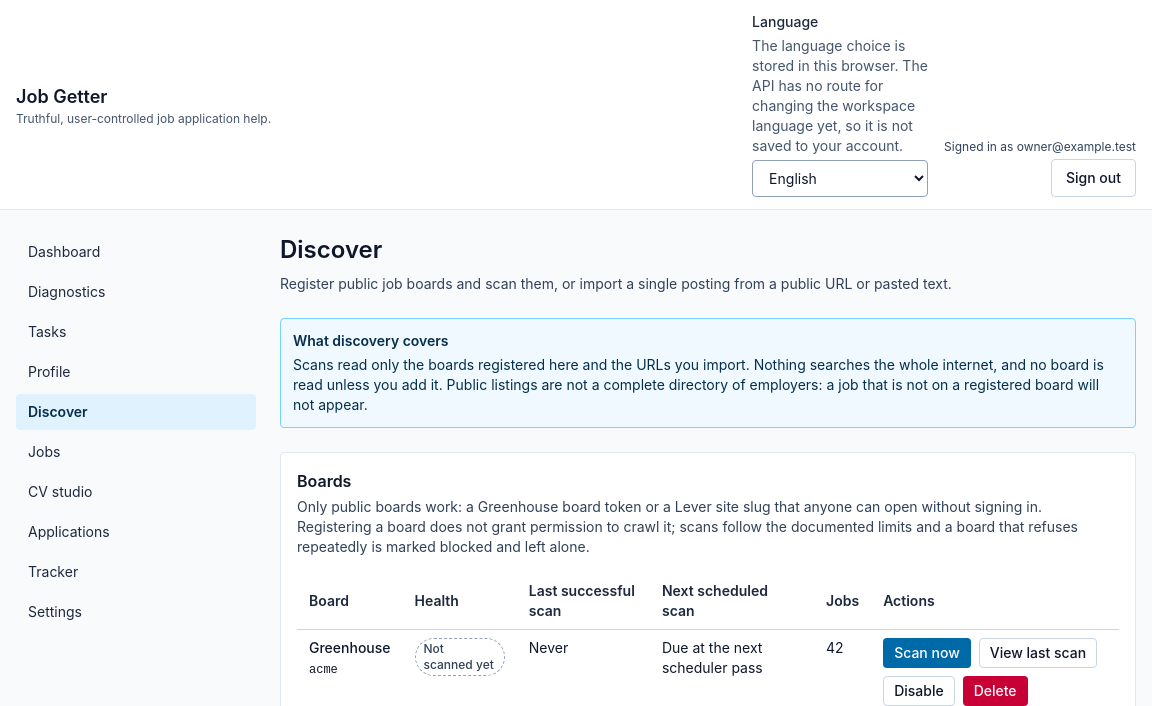
Test: discover: scan status › says plainly that a partial scan closed nothing
This screenshot has width=1152, height=706.
Expected: the heading "Discover" is shown, x1=280 y1=235 x2=382 y2=264
Click the button "View last scan" at (1038, 653), box x1=979 y1=638 x2=1097 y2=668
(page scrolled)
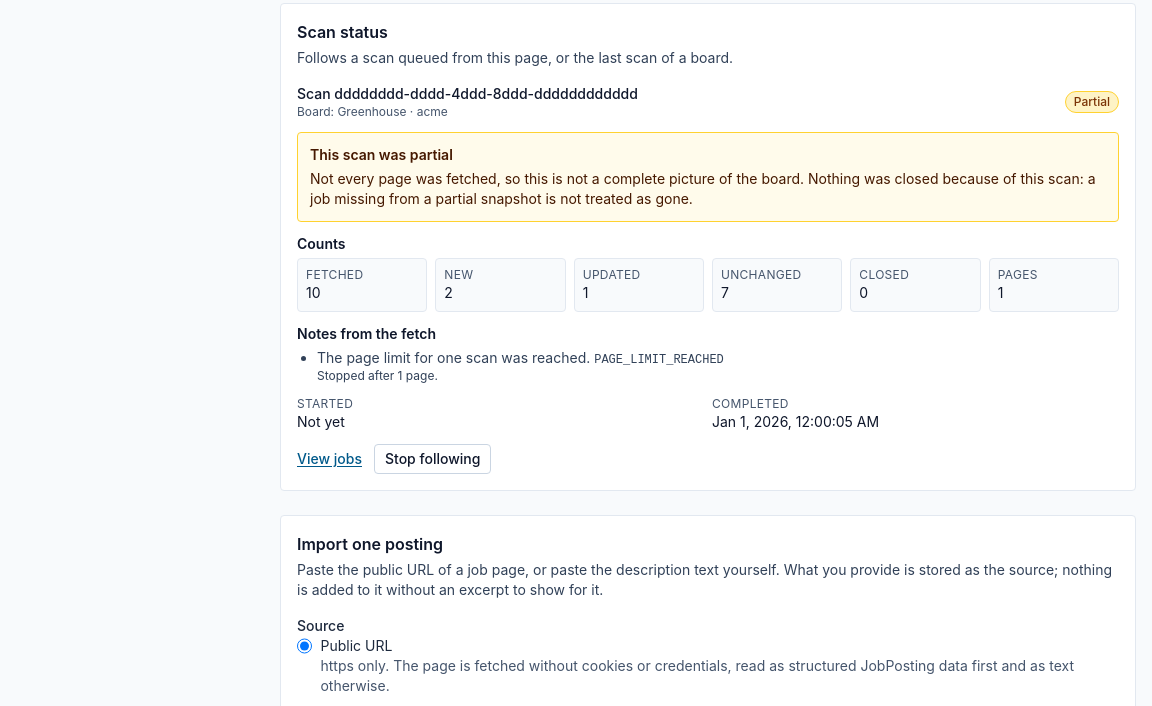
Expected: the text with test id "scan-partial" shows "Nothing was closed because of this scan", x1=310 y1=170 x2=1096 y2=207
Expected: the text with test id "scan-count-closed" reads "0", x1=859 y1=284 x2=868 y2=301
Expected: the text with test id "scan-count-created" reads "2", x1=444 y1=284 x2=453 y2=301
